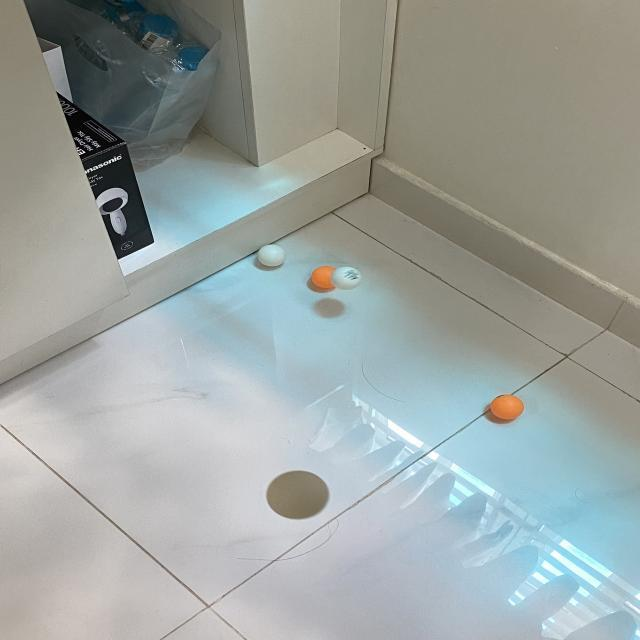ping-pong-ball: (269, 470, 331, 520), (490, 392, 527, 420), (312, 264, 342, 288), (333, 266, 362, 290), (259, 244, 287, 268)
